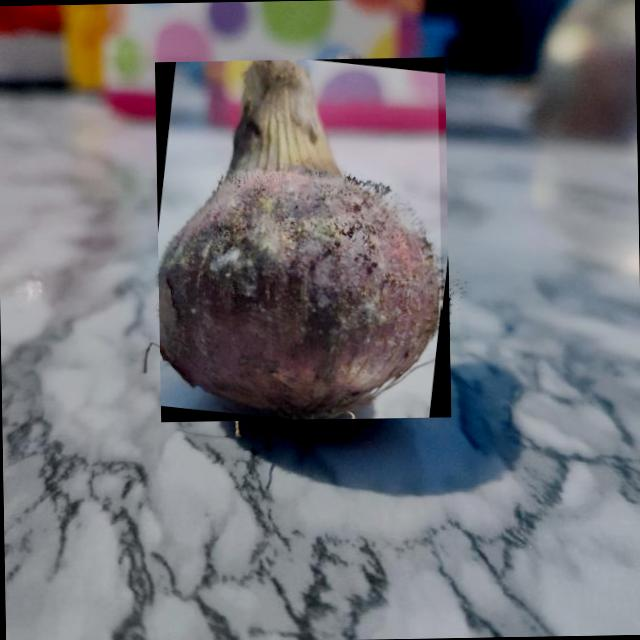rotten: (159, 59, 441, 419)
